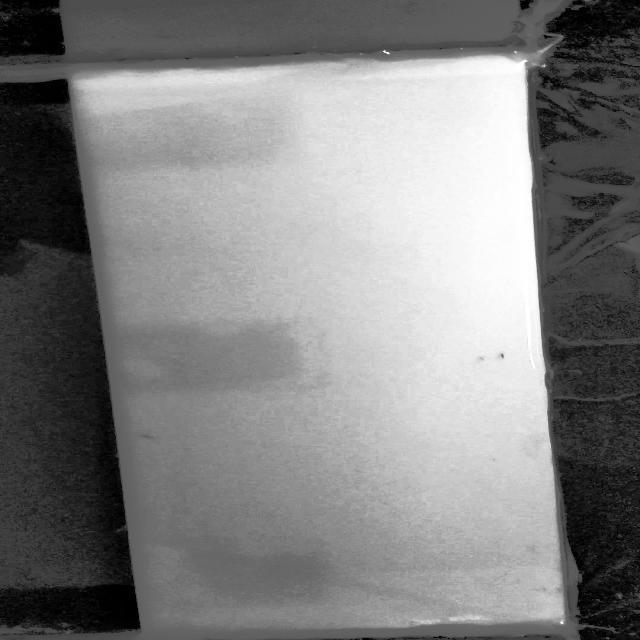shrimp: (466, 351, 494, 365), (490, 348, 512, 364), (130, 434, 164, 443)
